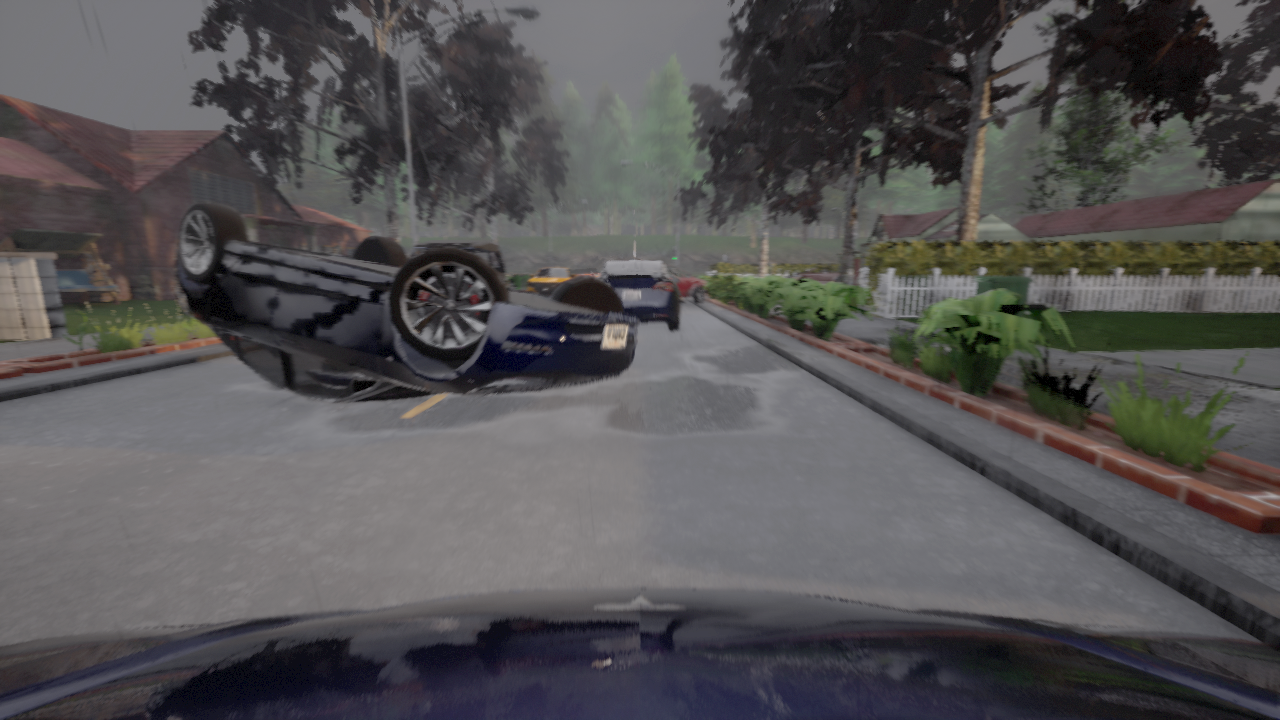cyclist: (0, 588, 1279, 719), (174, 202, 639, 403), (598, 260, 680, 329), (410, 240, 509, 287), (665, 264, 709, 303), (527, 266, 577, 295), (786, 267, 839, 283), (574, 268, 599, 276)
